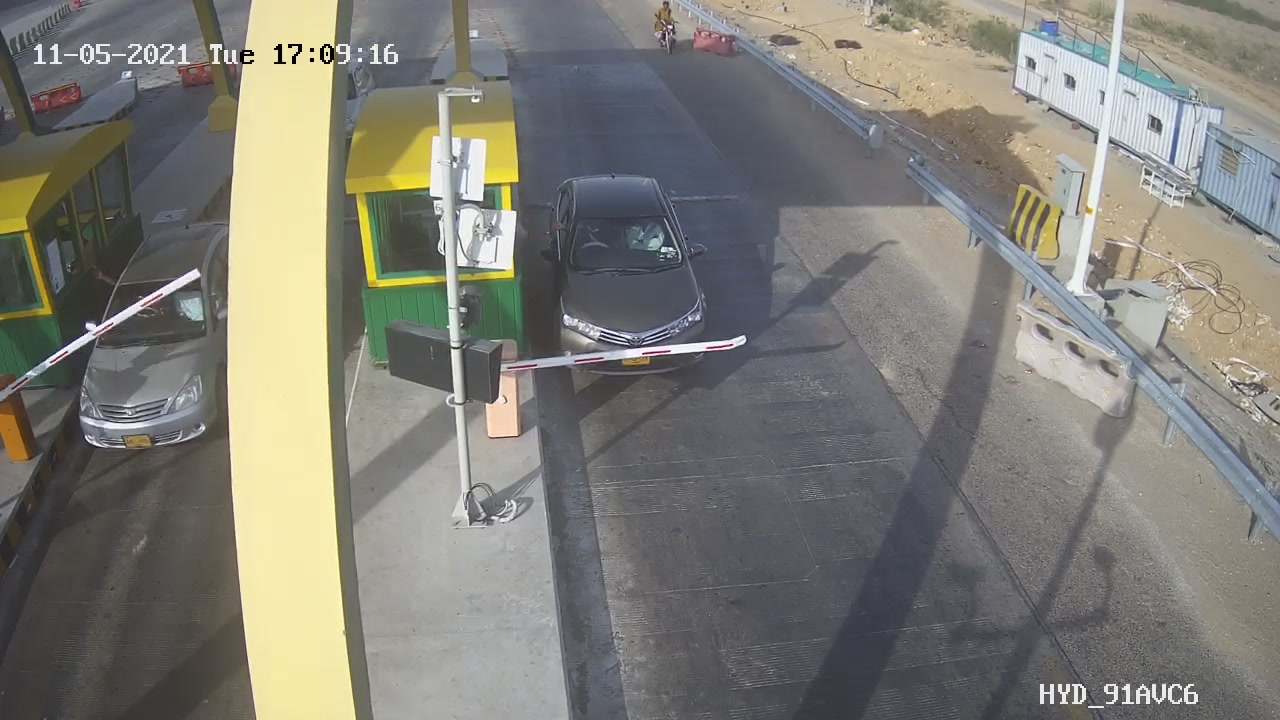F1: (524, 152, 744, 401)
